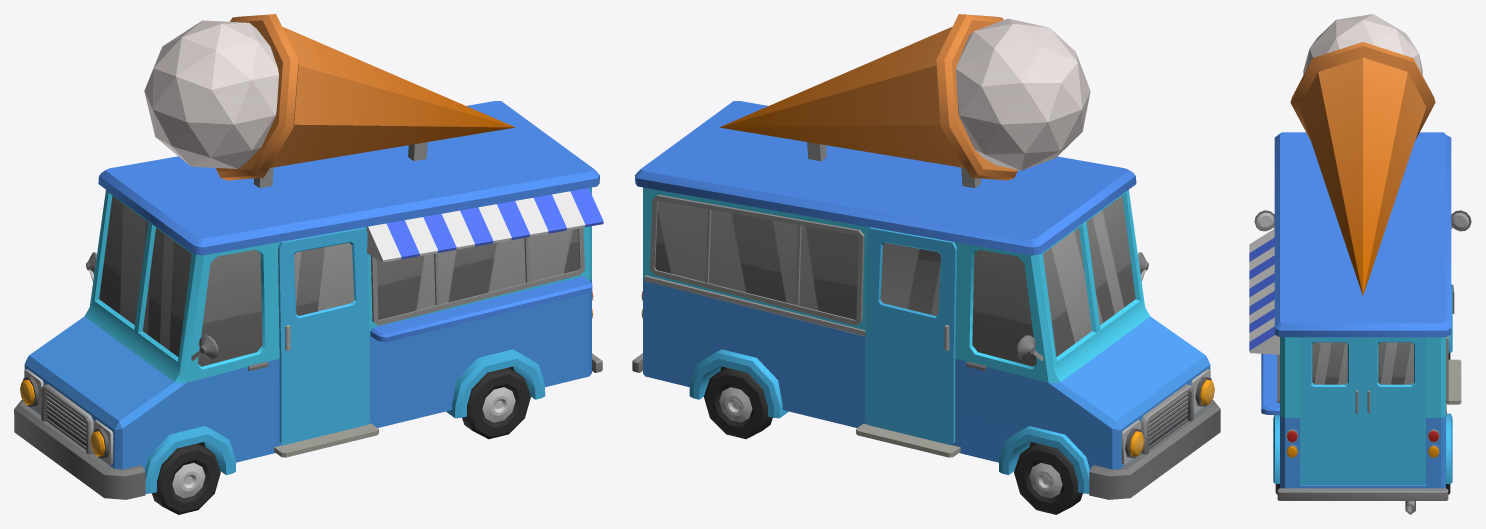
Rendered from IceTruck_2_F.gltf.
3 renders of one model, left to right at view 1: azimuth 30°, elevation 25°; view 2: azimuth 150°, elevation 25°; view 3: azimuth 270°, elevation 25°, orthographic. The views are drawn at different scales.
Visible parts, largest first — view 1: IceTruck_2_F, RL, FL; view 2: IceTruck_2_F, FR, RR; view 3: IceTruck_2_F.
Part boxes in pixels (bbox=[...]): IceTruck_2_F: bbox=[14, 14, 603, 499]; RL: bbox=[462, 367, 530, 439]; FL: bbox=[152, 443, 220, 514]; IceTruck_2_F: bbox=[632, 14, 1220, 499]; FR: bbox=[1014, 443, 1082, 514]; RR: bbox=[704, 368, 772, 438]; IceTruck_2_F: bbox=[1249, 14, 1471, 514].
Size of the model in its own units: 4.16 by 3.43 by 1.84.
4 materials, 4 textured.
